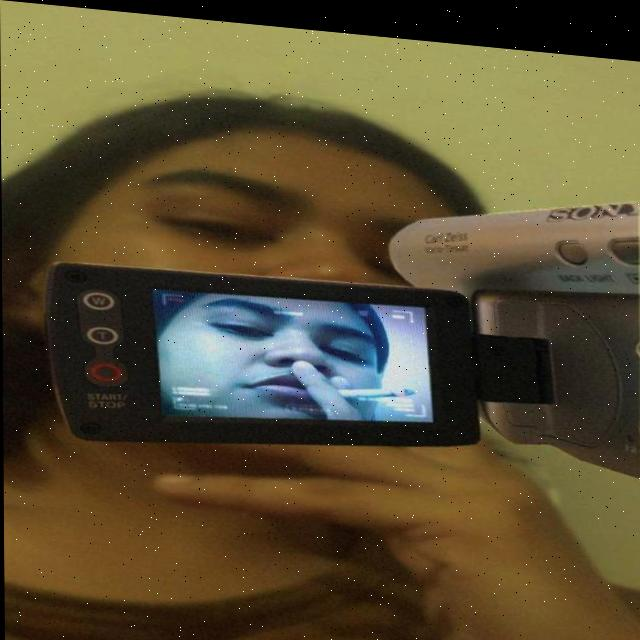cigarette: (334, 372, 414, 394)
